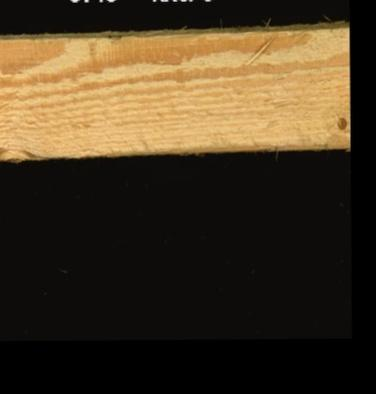dry_knot: (334, 113, 348, 131)
wave: (171, 141, 349, 154)
